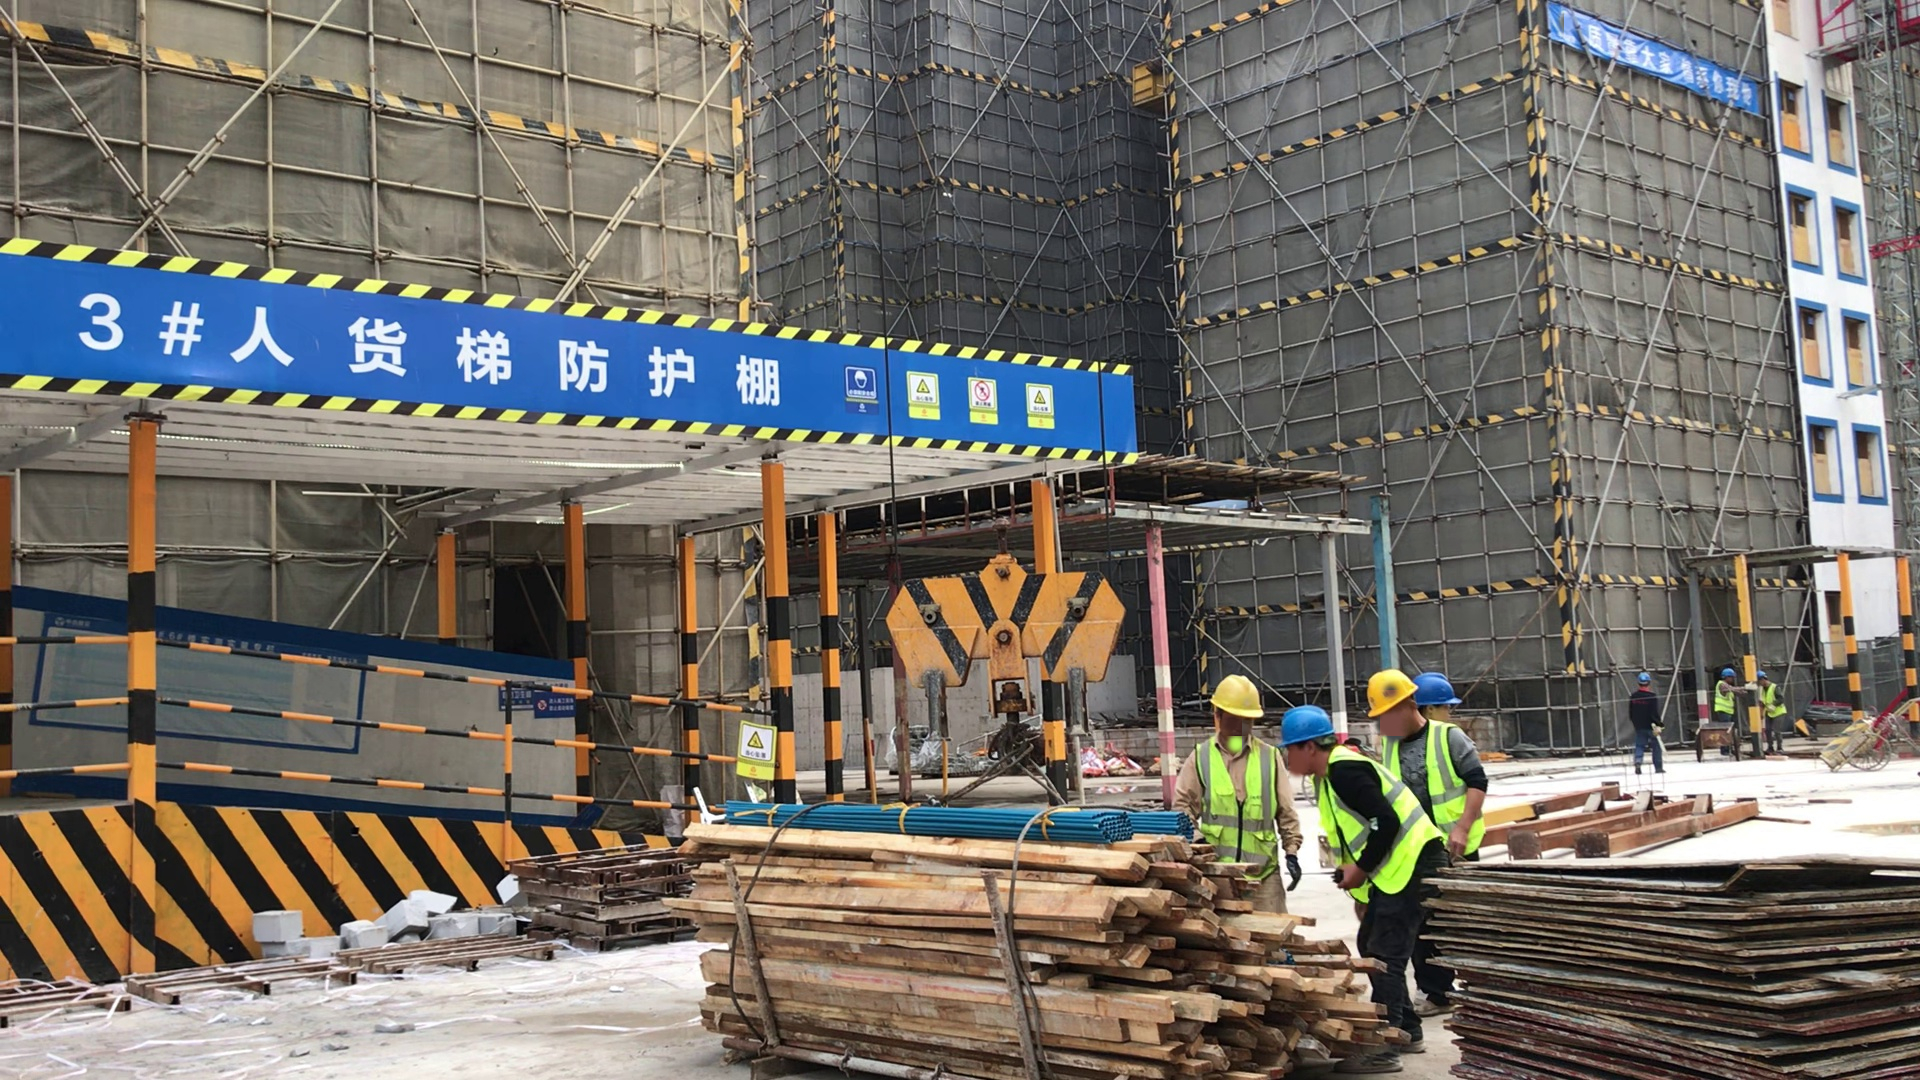board: (1437, 830, 1920, 1072)
handcart: (1811, 700, 1904, 774)
helmet: (1205, 669, 1265, 716), (1276, 706, 1334, 740), (1361, 672, 1413, 707), (1408, 675, 1460, 706), (1634, 671, 1652, 684), (1720, 667, 1736, 680), (1755, 673, 1768, 682)
hook: (884, 546, 1125, 712)
person: (1272, 704, 1439, 959), (1169, 660, 1307, 894), (1366, 674, 1486, 853), (1626, 671, 1671, 775), (1755, 671, 1789, 757), (1711, 666, 1738, 725)
slogan: (1543, 4, 1763, 115)
vest: (1313, 758, 1435, 882), (1195, 736, 1280, 862), (1382, 737, 1475, 837), (1760, 681, 1784, 722), (1714, 680, 1733, 715)
wood: (681, 826, 1395, 1080)
